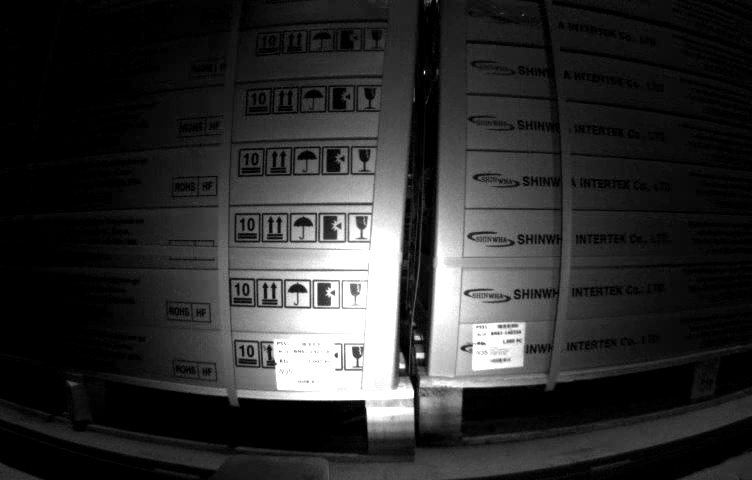True Barcode: (273, 339, 338, 392), (472, 324, 524, 368)
